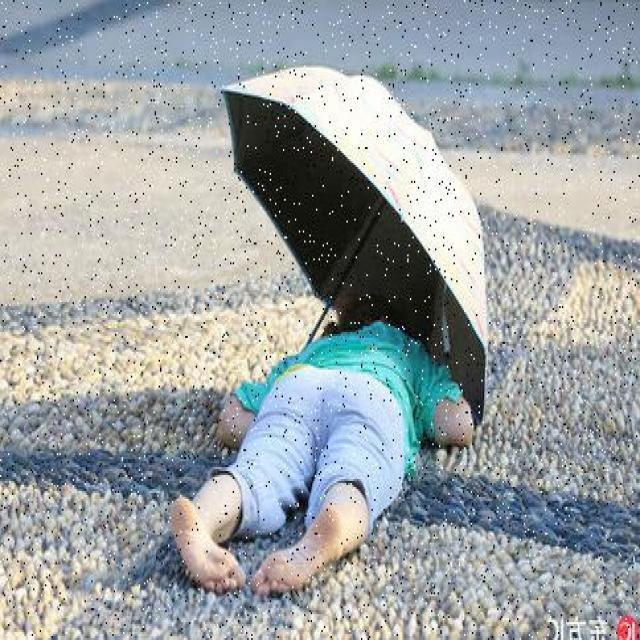fall: (168, 304, 460, 588)
